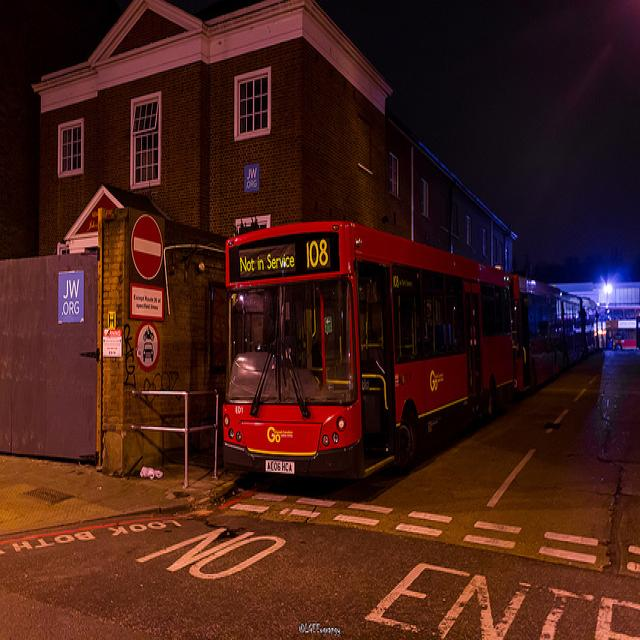Bus: (212, 216, 520, 478), (508, 246, 607, 401)
